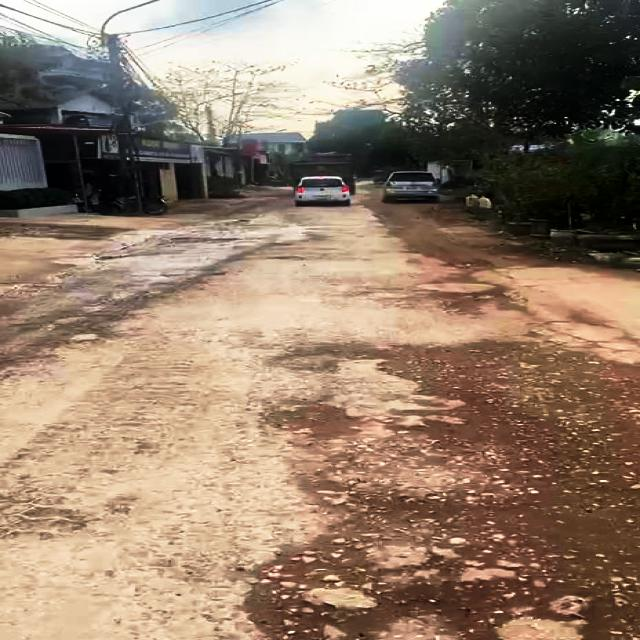pothole: (231, 561, 593, 640), (375, 386, 505, 445), (262, 394, 349, 440)
